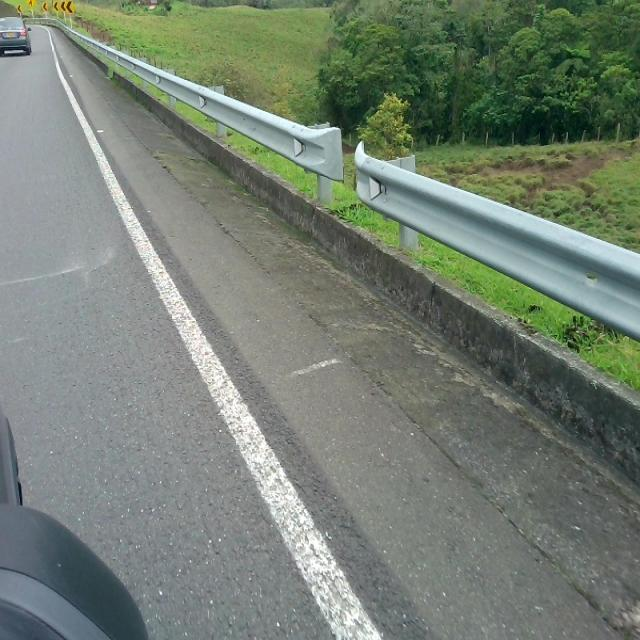DITCH: (8, 19, 638, 638)
